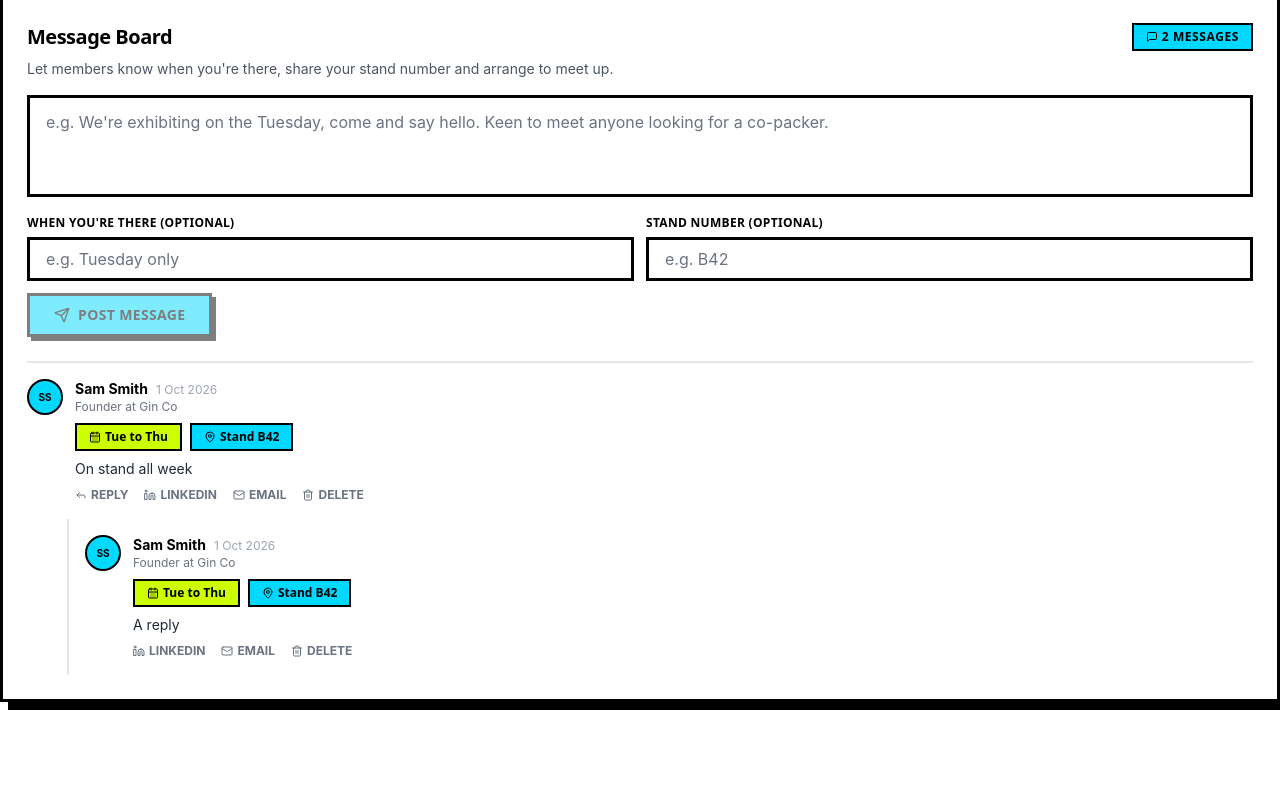
EventMessageBoard › lets an admin delete a message along with its replies
Click the button "Delete" below "On stand all week". click: [333, 495]
box: [302,487,364,503]
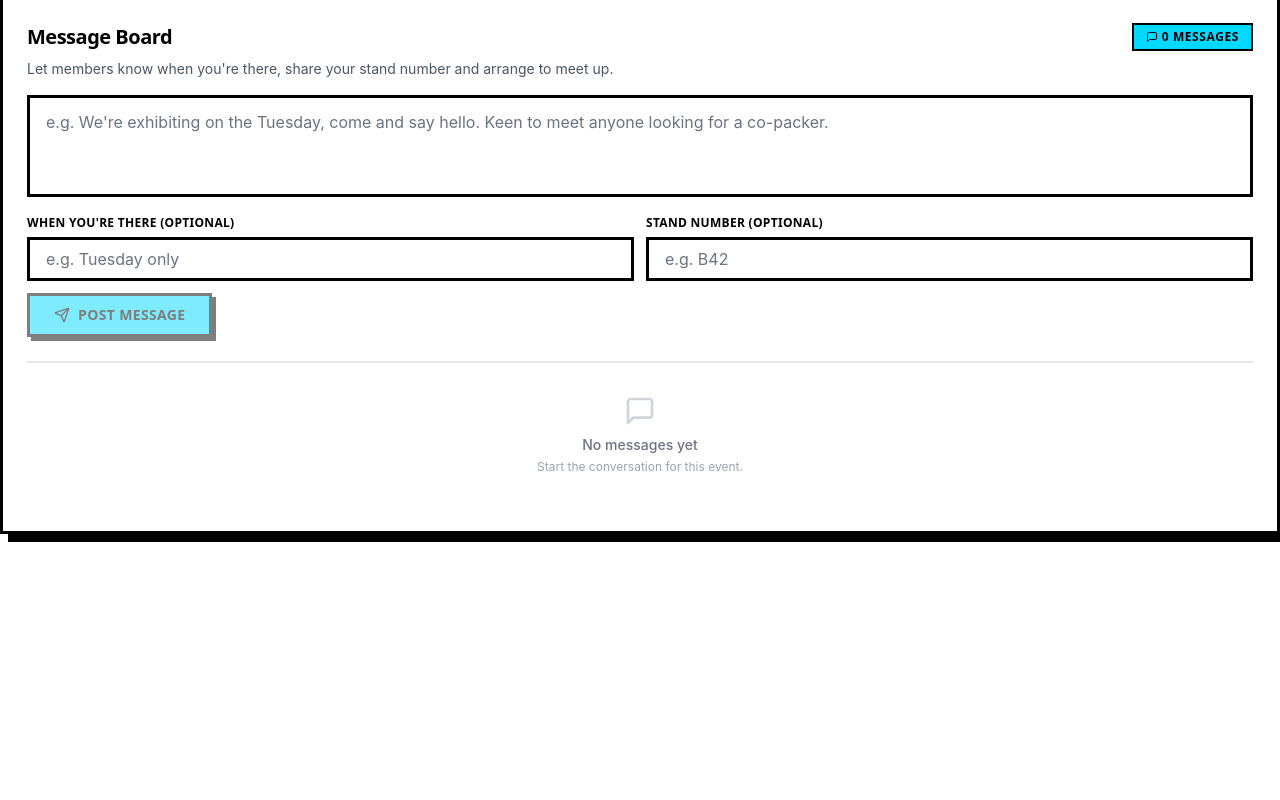
Check: the text "On stand all week" is gone
Check: the text "A reply" is gone
